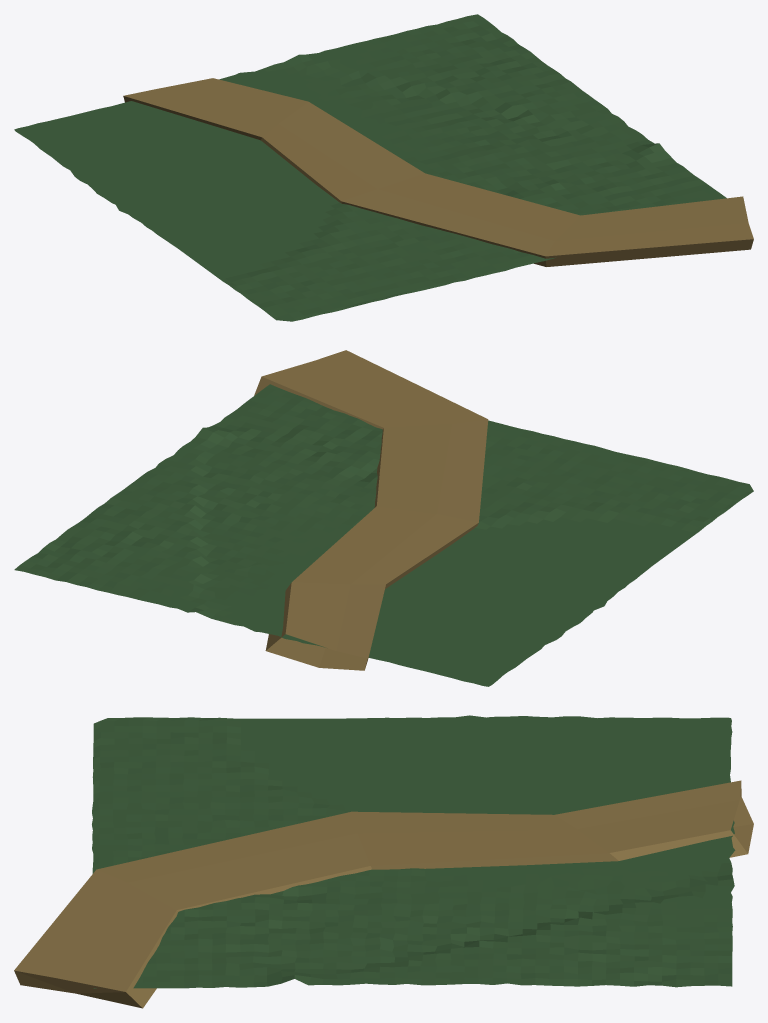
File: athili_copse_section15.glb
The picture shows the model from 3 angles, top to bottom: view 1: azimuth 30°, elevation 25°; view 2: azimuth 150°, elevation 25°; view 3: azimuth 270°, elevation 25°; orthographic projection. The views are drawn at different scales.
Parts seen in each view (by area): view 1: Grass, Road; view 2: Grass, Road; view 3: Grass, Road.
Part boxes in pixels (left/top/right/bottom): Grass: left=14, top=14, right=726, bottom=321; Road: left=123, top=78, right=753, bottom=266; Grass: left=14, top=384, right=753, bottom=686; Road: left=254, top=350, right=488, bottom=670; Grass: left=92, top=715, right=735, bottom=988; Road: left=14, top=780, right=753, bottom=1008.
Bounding box in the file's own units: 61.31 × 2.41 × 68.52.
